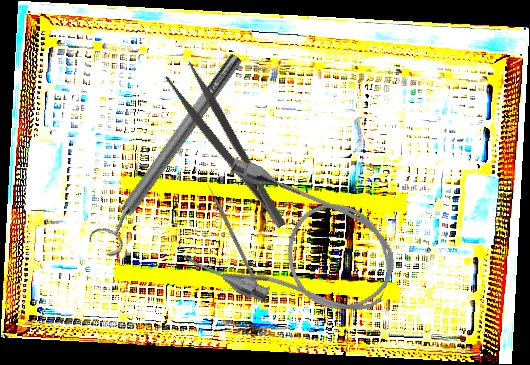Cannula: (178, 152, 411, 344)
Dressing Forceps: (163, 59, 291, 240)
Fixation Ring: (83, 46, 255, 261)
Pusher: (203, 176, 257, 282)
